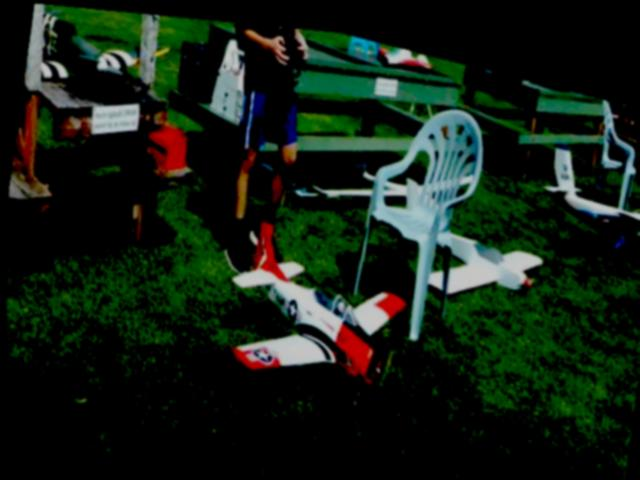uav: (218, 208, 409, 400), (539, 128, 640, 251), (374, 34, 435, 68)
